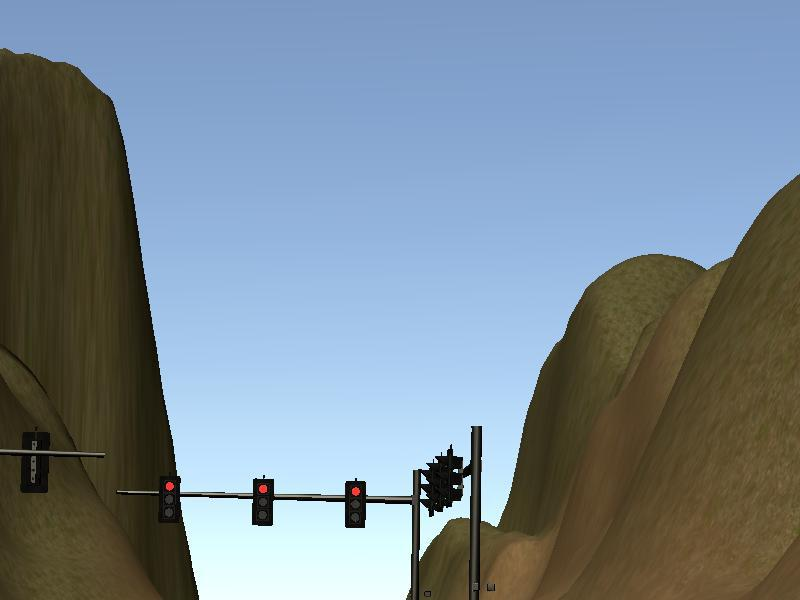Red: (159, 475, 180, 523), (344, 480, 365, 528), (252, 478, 273, 526)
